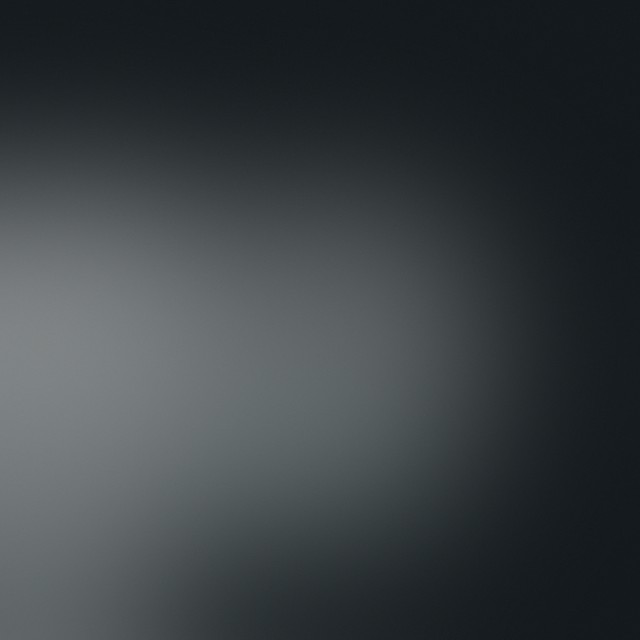smoke: (31, 187, 355, 511)
